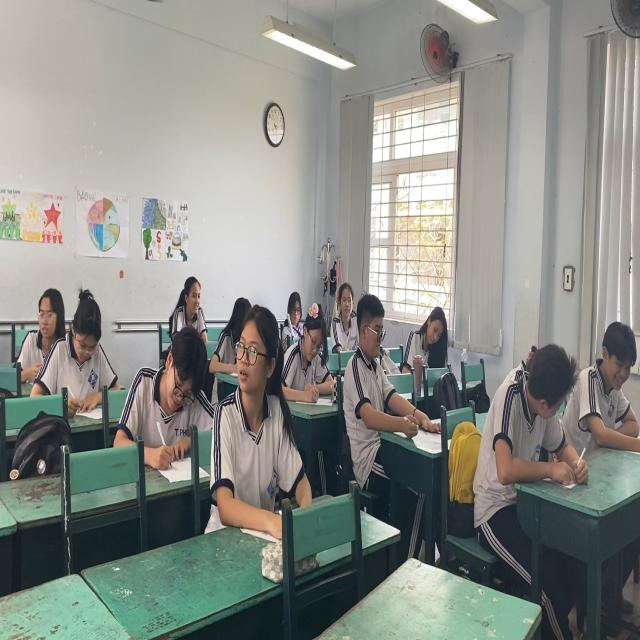cheating: (211, 299, 296, 519)
not_cheating: (489, 339, 579, 506), (133, 331, 213, 460), (579, 322, 640, 449), (352, 292, 406, 434), (58, 285, 122, 401), (292, 304, 334, 404), (33, 278, 76, 344), (172, 275, 209, 348), (330, 272, 359, 351), (411, 308, 452, 361), (282, 288, 306, 322)
